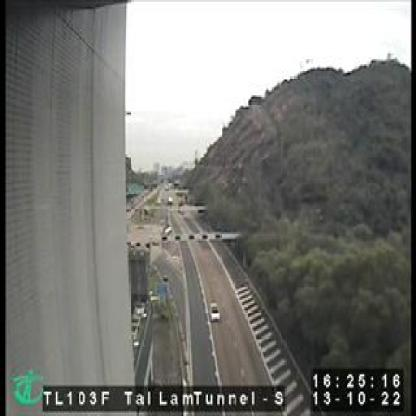Car: (210, 304, 221, 324)
